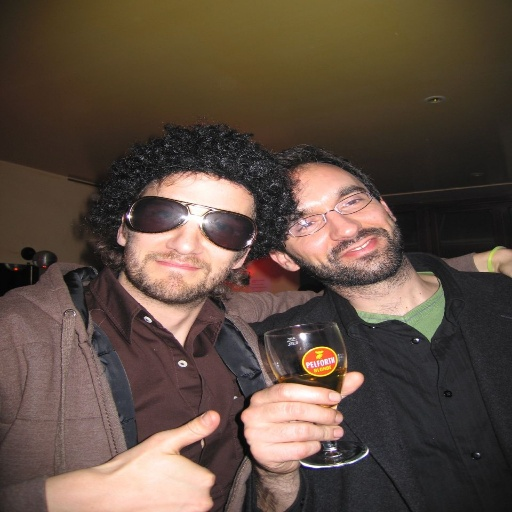hand: (65, 410, 232, 507), (235, 369, 366, 475), (496, 246, 510, 276)
